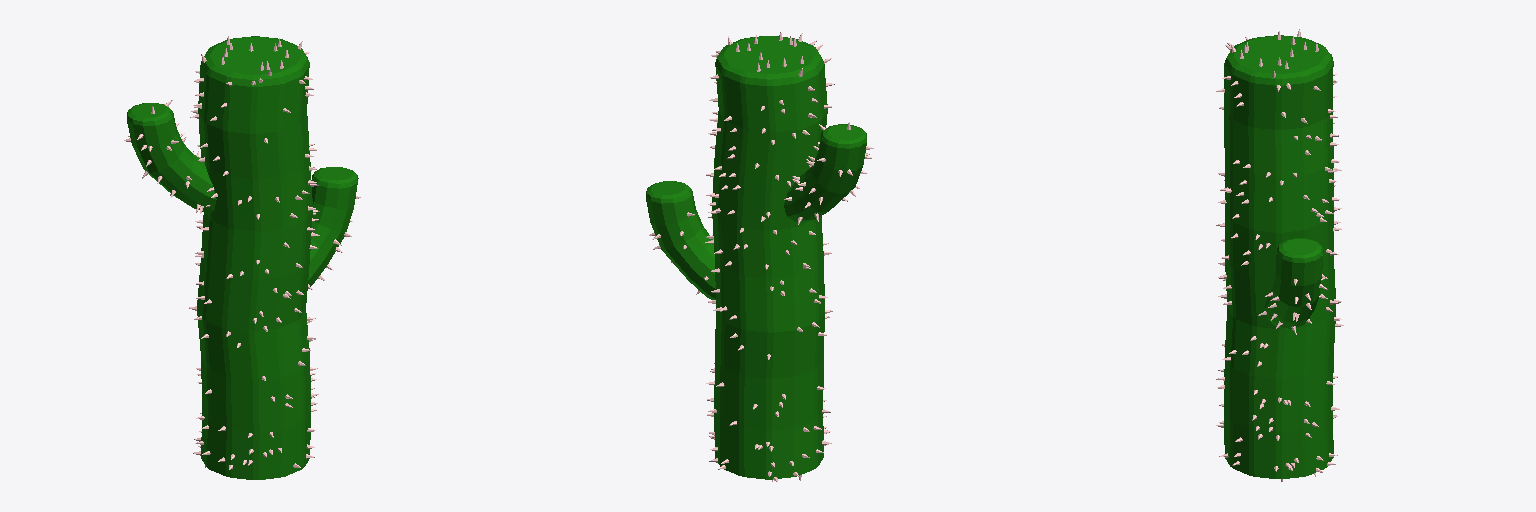
Rendered from cactus_big_2.obj.
3 renders of one model, left to right at view 1: azimuth 30°, elevation 25°; view 2: azimuth 150°, elevation 25°; view 3: azimuth 270°, elevation 25°, orthographic.
Visible parts, largest first — view 1: cactus_big_2; view 2: cactus_big_2; view 3: cactus_big_2.
Boxes of the visible parts, x1,y1,x2,y2 form: cactus_big_2: [124, 36, 360, 479]; cactus_big_2: [646, 32, 873, 481]; cactus_big_2: [1216, 29, 1343, 481].
Size of the model in its own units: 4.7 by 8.32 by 2.31.